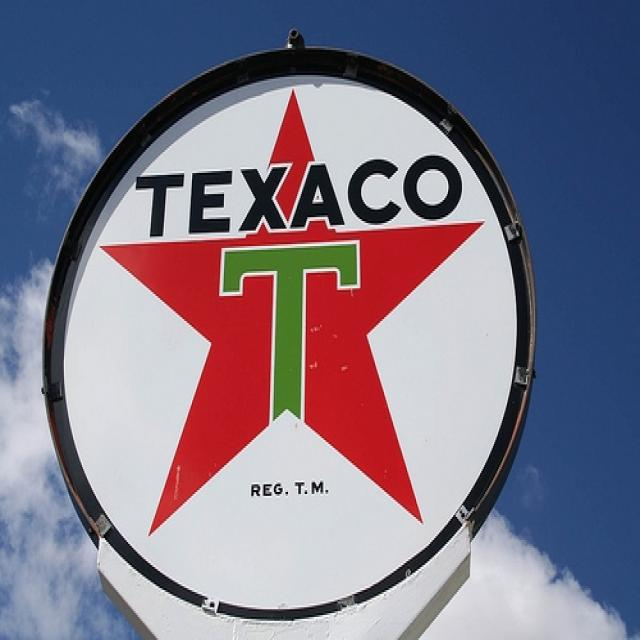texaco: (56, 76, 521, 614)
